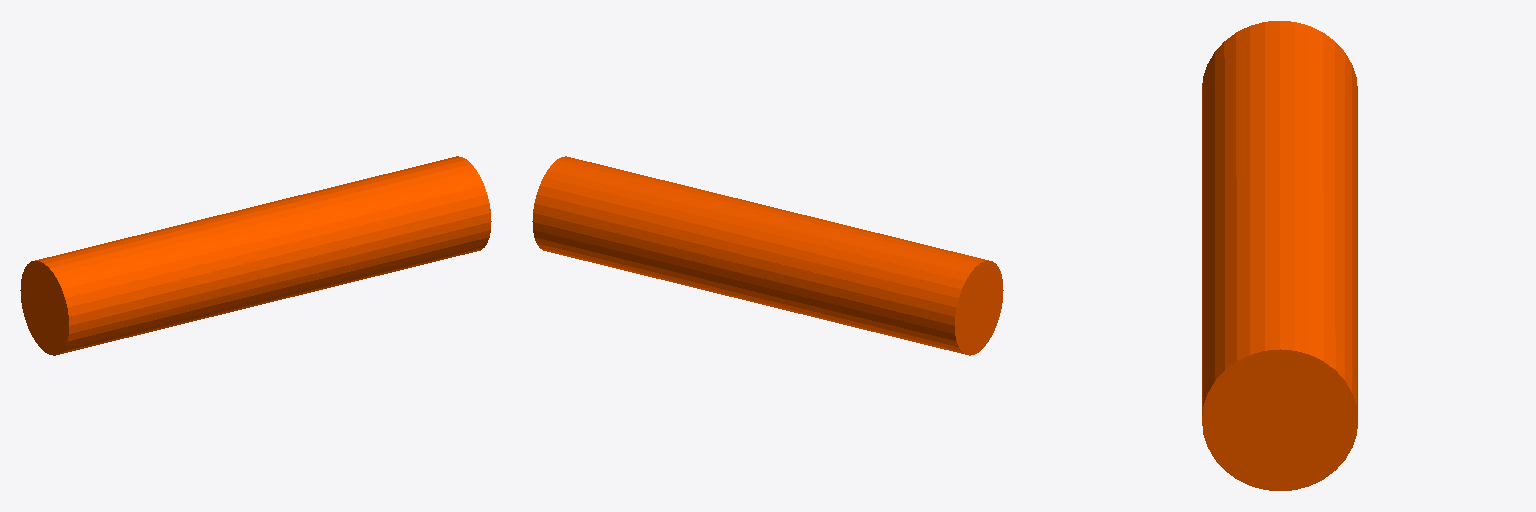
The robot description file, URDF, robot "crs2":
<?xml version="1.0" encoding="utf-8" ?>
<robot name="crs2" xmlns:xacro="http://ros.org/wiki/xacro">
    <link name="base_link">
        <visual>
            <origin rpy="0 0 3.14159265359" xyz="0 0 0" />
            <geometry>
                <mesh filename="package://crs_support/meshes/ur10e/visual/base.dae" />
            </geometry>
            <material name="LightGrey">
                <color rgba="0.7 0.7 0.7 1.0" />
            </material>
        </visual>
        <collision>
            <origin rpy="0 0 3.14159265359" xyz="0 0 0" />
            <geometry>
                <mesh filename="package://crs_support/meshes/ur10e/collision/base.stl" />
            </geometry>
        </collision>

        <inertial>
            <mass value="4.0" />
            <origin rpy="0 0 0" xyz="0.0 0.0 0.0" />
            <inertia ixx="0.0061063308908" ixy="0.0" ixz="0.0" iyy="0.0061063308908" iyz="0.0" izz="0.01125" />
        </inertial>

    </link>
    <joint name="shoulder_pan_joint" type="revolute">
        <parent link="base_link" />
        <child link="shoulder_link" />
        <origin rpy="0 0 3.14159249728" xyz="0 0 0.180920744391" />
        <axis xyz="0 0 1" />
        <limit effort="330.0" lower="-6.28318530718" upper="6.28318530718" velocity="3.14" />
        <dynamics damping="0.0" friction="0.0" />
    </joint>
    <link name="shoulder_link">
        <visual>
            <origin rpy="0 0 3.14159265359" xyz="0 0 0" />
            <geometry>
                <mesh filename="package://crs_support/meshes/ur10e/visual/shoulder.dae" />
            </geometry>
            <material name="LightGrey">
                <color rgba="0.7 0.7 0.7 1.0" />
            </material>
        </visual>
        <collision>
            <origin rpy="0 0 3.14159265359" xyz="0 0 0" />
            <geometry>
                <mesh filename="package://crs_support/meshes/ur10e/collision/shoulder.stl" />
            </geometry>
        </collision>

        <inertial>
            <mass value="7.778" />
            <origin rpy="0 0 0" xyz="0.0 0.0 0.0" />
            <inertia ixx="0.0314743125769" ixy="0.0" ixz="0.0" iyy="0.0314743125769" iyz="0.0" izz="0.021875625" />
        </inertial>

    </link>
    <joint name="shoulder_lift_joint" type="revolute">
        <parent link="shoulder_link" />
        <child link="upper_arm_link" />
        <origin rpy="1.57065145242 0 -2.70337965131e-06" xyz="0.00013292041689 0 0" />
        <axis xyz="0 0 1" />
        <limit effort="330.0" lower="-6.28318530718" upper="6.28318530718" velocity="3.14" />
        <dynamics damping="0.0" friction="0.0" />
    </joint>
    <link name="upper_arm_link">
        <visual>
            <origin rpy="1.57079632679 0 -1.57079632679" xyz="0 0 0.1762" />
            <geometry>
                <mesh filename="package://crs_support/meshes/ur10e/visual/upperarm.dae" />
            </geometry>
            <material name="LightGrey">
                <color rgba="0.7 0.7 0.7 1.0" />
            </material>
        </visual>
        <collision>
            <origin rpy="1.57079632679 0 -1.57079632679" xyz="0 0 0.1762" />
            <geometry>
                <mesh filename="package://crs_support/meshes/ur10e/collision/upper_arm_multibody.dae" />
            </geometry>
        </collision>

        <inertial>
            <mass value="12.93" />
            <origin rpy="0 1.57079632679 0" xyz="-0.3059856723 0.0 0.175" />
            <inertia ixx="0.421716012238" ixy="0.0" ixz="0.0" iyy="0.421716012238" iyz="0.0" izz="0.036365625" />
        </inertial>

    </link>
    <joint name="elbow_joint" type="revolute">
        <parent link="upper_arm_link" />
        <child link="forearm_link" />
        <origin rpy="3.14047492209 3.14117521433 3.14159104748" xyz="-0.611971344601 0 0" />
        <axis xyz="0 0 1" />
        <limit effort="150.0" lower="-2.6" upper="3.141592653589793" velocity="3.14" />
        <dynamics damping="0.0" friction="0.0" />
    </joint>
    <link name="forearm_link">
        <visual>
            <origin rpy="1.57079632679 0 -1.57079632679" xyz="0 0 0.0393" />
            <geometry>
                <mesh filename="package://crs_support/meshes/ur10e/visual/forearm.dae" />
            </geometry>
            <material name="LightGrey">
                <color rgba="0.7 0.7 0.7 1.0" />
            </material>
        </visual>
        <collision>
            <origin rpy="1.57079632679 0 -1.57079632679" xyz="0 0 0.0393" />
            <geometry>
                <mesh filename="package://crs_support/meshes/ur10e/collision/forearm_multibody.dae" />
            </geometry>
        </collision>

        <inertial>
            <mass value="3.87" />
            <origin rpy="0 1.57079632679 0" xyz="-0.3059856723 0.0 0.0393" />
            <inertia ixx="0.110614284666" ixy="0.0" ixz="0.0" iyy="0.110614284666" iyz="0.0" izz="0.010884375" />
        </inertial>

    </link>
    <joint name="wrist_1_joint" type="revolute">
        <parent link="forearm_link" />
        <child link="wrist_1_link" />
        <origin rpy="3.13872123266 -3.14053617519 3.14158723656" xyz="-0.571064941288 0.000500820247035 0.174414995927" />
        <axis xyz="0 0 1" />
        <limit effort="54.0" lower="-6.28318530718" upper="6.28318530718" velocity="6.28" />
        <dynamics damping="0.0" friction="0.0" />
    </joint>
    <link name="wrist_1_link">
        <visual>
            <origin rpy="1.57079632679 0 0" xyz="0 0 -0.135" />
            <geometry>
                <mesh filename="package://crs_support/meshes/ur10e/visual/wrist1.dae" />
            </geometry>
            <material name="LightGrey">
                <color rgba="0.7 0.7 0.7 1.0" />
            </material>
        </visual>
        <collision>
            <origin rpy="1.57079632679 0 0" xyz="0 0 -0.135" />
            <geometry>
                <mesh filename="package://crs_support/meshes/ur10e/collision/wrist1.stl" />
            </geometry>
        </collision>

        <inertial>
            <mass value="1.96" />
            <origin rpy="0 0 0" xyz="0.0 0.0 0.0" />
            <inertia ixx="0.00510211926321" ixy="0.0" ixz="0.0" iyy="0.00510211926321" iyz="0.0" izz="0.0055125" />
        </inertial>

    </link>
    <joint name="wrist_2_joint" type="revolute">
        <parent link="wrist_1_link" />
        <child link="wrist_2_link" />
        <origin rpy="1.57117550062 0 -9.13444434245e-07" xyz="5.96404309737e-05 -0.119843553735 -4.54415414531e-05" />
        <axis xyz="0 0 1" />
        <limit effort="54.0" lower="-6.28318530718" upper="6.28318530718" velocity="6.28" />
        <dynamics damping="0.0" friction="0.0" />
    </joint>
    <link name="wrist_2_link">
        <visual>
            <origin rpy="0 0 0" xyz="0 0 -0.12" />
            <geometry>
                <mesh filename="package://crs_support/meshes/ur10e/visual/wrist2.dae" />
            </geometry>
            <material name="LightGrey">
                <color rgba="0.7 0.7 0.7 1.0" />
            </material>
        </visual>
        <collision>
            <origin rpy="0 0 0" xyz="0 0 -0.12" />
            <geometry>
                <mesh filename="package://crs_support/meshes/ur10e/collision/wrist2.stl" />
            </geometry>
        </collision>

        <inertial>
            <mass value="1.96" />
            <origin rpy="0 0 0" xyz="0.0 0.0 0.0" />
            <inertia ixx="0.00493642595291" ixy="0.0" ixz="0.0" iyy="0.00493642595291" iyz="0.0" izz="0.0055125" />
        </inertial>

    </link>
    <joint name="wrist_3_joint" type="revolute">
        <parent link="wrist_2_link" />
        <child link="wrist_3_link" />
        <origin rpy="1.57170379674 3.14159265359 3.14159254819" xyz="1.57784168351e-05 0.115533666641 0.000104843358957" />
        <axis xyz="0 0 1" />
        <limit effort="54.0" lower="-6.28318530718" upper="6.28318530718" velocity="6.28" />
        <dynamics damping="0.0" friction="0.0" />
    </joint>
    <link name="wrist_3_link">
        <visual>
            <origin rpy="1.57079632679 0 0" xyz="0 0 -0.1168" />
            <geometry>
                <mesh filename="package://crs_support/meshes/ur10e/visual/wrist3.dae" />
            </geometry>
            <material name="LightGrey">
                <color rgba="0.7 0.7 0.7 1.0" />
            </material>
        </visual>
        <collision>
            <origin rpy="1.57079632679 0 0" xyz="0 0 -0.1168" />
            <geometry>
                <mesh filename="package://crs_support/meshes/ur10e/collision/wrist3.stl" />
            </geometry>
        </collision>

        <inertial>
            <mass value="0.202" />
            <origin rpy="0 0 0" xyz="0.0 0.0 -0.025" />
            <inertia ixx="0.000144345775595" ixy="0.0" ixz="0.0" iyy="0.000144345775595" iyz="0.0" izz="0.000204525" />
        </inertial>

    </link>
    <joint name="ee_fixed_joint" type="fixed">
        <parent link="wrist_3_link" />
        <child link="ee_link" />
        <origin rpy="0.0 -1.57079632679 1.57079632679" xyz="0.0 0.0 0.0" />
    </joint>
    <link name="ee_link">
        <collision>
            <geometry>
                <box size="0.01 0.01 0.01" />
            </geometry>
            <origin rpy="0 0 0" xyz="-0.01 0 0" />
        </collision>

        <inertial>
            <mass value="0.1" />
            <inertia ixx="0.03" iyy="0.03" izz="0.03" ixy="0.0" ixz="0.0" iyz="0.0" />
        </inertial>

    </link>
    <link name="base" />
    <joint name="base_link-base_fixed_joint" type="fixed">
        <origin rpy="-1.571 0 0" xyz="0 0 0" />
        <parent link="base" />
        <child link="base_link" />
    </joint>
    <link name="tool0" />
    <joint name="wrist_3_link-tool0_fixed_joint" type="fixed">
        <origin rpy="0 0 0" xyz="0 0 0" />
        <parent link="wrist_3_link" />
        <child link="tool0" />
    </joint>
    <link name="eoat_link">
        <visual>
            <geometry>
                <cylinder length="0.20" radius="0.02" />
            </geometry>
            <material name="Orange">
                <color rgba="1.0 0.4 0.0 1.0" />
            </material>
        </visual>
        <collision>
            <geometry>
                <cylinder length="0.20" radius="0.02" />
            </geometry>
        </collision>

        <inertial>
            <mass value="0.202" />
            <origin rpy="0 0 0" xyz="0.0 0.0 0.0" />
            <inertia ixx="0.000526462289415" ixy="0.0" ixz="0.0" iyy="0.000526462289415" iyz="0.0" izz="0.000568125" />
        </inertial>

    </link>
    <joint name="tool0_to_eoat_link" type="fixed">
        <parent link="tool0" />
        <child link="eoat_link" />
        <origin rpy="0.0 0.0 0.0" xyz="0.0 0.0 0.0" />
    </joint>
    <link name="robot_stand">
        <visual>
            <origin rpy="1.57079632679 0 0" xyz="0 0 -0.1168" />
            <geometry>
                <mesh filename="package://crs_support/meshes/Mockup/visual/mock_up_frame.stl" />
            </geometry>
            <material name="LightGrey">
                <color rgba="0.7 0.7 0.7 1.0" />
            </material>
        </visual>
        <collision>
            <geometry>
                <box size="2.7 2.25 0.05" />
            </geometry>
            <origin rpy="0 0 0" xyz="-0.4 -1.1 1.325" />
        </collision>
        <collision>
            <geometry>
                <box size="2.7 2.25 0.05" />
            </geometry>
            <origin rpy="0 0 0" xyz="-0.4 -1.1 -1.11" />
        </collision>
        <collision>
            <geometry>
                <box size="0.05 2.25 2.7" />
            </geometry>
            <origin rpy="0 0 0" xyz="-1.7 -1.1 0" />
        </collision>
        <collision>
            <geometry>
                <box size="0.05 2.25 2.7" />
            </geometry>
            <origin rpy="0 0 0" xyz="0.85 -1.1 0" />
        </collision>
        <collision>
            <geometry>
                <box size="2.7 0.05 2.7" />
            </geometry>
            <origin rpy="0 0 0" xyz="-0.5 0 0" />
        </collision>
        <collision>
            <geometry>
                <box size="2.7 0.05 2.7" />
            </geometry>
            <origin rpy="0 0 0" xyz="-0.5 -2.045 0" />
        </collision>

        <inertial>
            <mass value="0.1" />
            <inertia ixx="0.03" iyy="0.03" izz="0.03" ixy="0.0" ixz="0.0" iyz="0.0" />
        </inertial>

    </link>
    <joint name="robot_base_joint" type="fixed">
        <parent link="robot_stand" />
        <child link="base" />
        <origin rpy="0 1.571 0" xyz="0.077 -2.019 1.020 " />
        <axis xyz="1 0 0"/>
        <limit effort="54.0" lower="-0.1" upper="1.9" velocity=".1" />
    </joint>
    <link name="world" />
    <joint name="robot_stand_joint" type="fixed">
        <parent link="world" />
        <child link="robot_stand" />
        <origin rpy="-1.571 0 0" xyz="0 0 0" />
    </joint>
    <link name="camera_link_optical" />
    <joint name="camera_optical_joint" type="fixed">
        <origin xyz="0 0 0" rpy="-1.571 0 -1.571"/>
        <parent link="wrist_3_link"/>
        <child link="camera_link_optical"/>
    </joint>
</robot>

--- Render facts (derived) ---
Views: 3 orthographic renders of the robot side by side, from view 1: azimuth 30°, elevation 25°; view 2: azimuth 150°, elevation 25°; view 3: azimuth 270°, elevation 25°.
Robot: crs2 — 14 links, 13 joints (6 revolute, 7 fixed); root link world; default pose: all joints at 0.
Links seen in each view (by area): view 1: eoat_link; view 2: eoat_link; view 3: eoat_link.
Boxes of the visible links, x1,y1,x2,y2 form: eoat_link: (20, 156, 491, 355); eoat_link: (532, 156, 1003, 355); eoat_link: (1202, 21, 1357, 490).
Size in the robot's own frame: 0.2001 by 0.0401 by 0.0405 metres.
0 mesh visuals loaded from 8 distinct referenced files (none loaded); not drawn: 8 (reference not matched to a file when rendering).